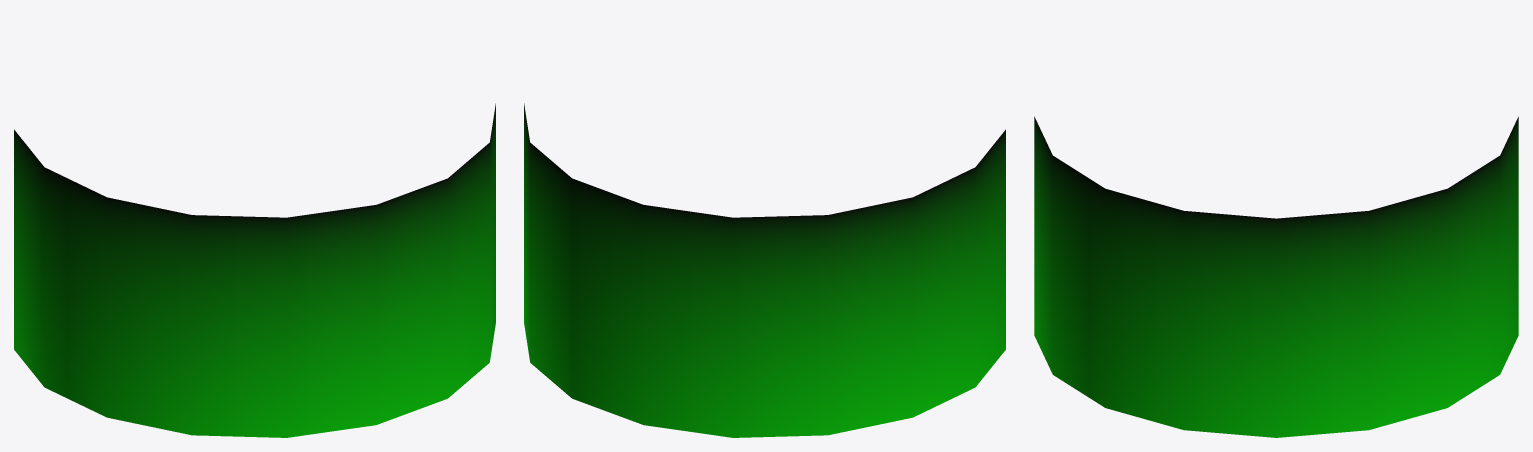
Rendered from circle_green.glb.
The picture shows the model from 3 angles, left to right: view 1: azimuth 30°, elevation 25°; view 2: azimuth 150°, elevation 25°; view 3: azimuth 270°, elevation 25°; orthographic projection.
Parts seen in each view (by area): view 1: Cylinder; view 2: Cylinder; view 3: Cylinder.
Boxes of the visible parts, x1,y1,x2,y2 form: Cylinder: [14, 103, 495, 437]; Cylinder: [524, 103, 1005, 437]; Cylinder: [1034, 116, 1518, 437].
Size of the model in its own units: 2 by 1 by 2.
